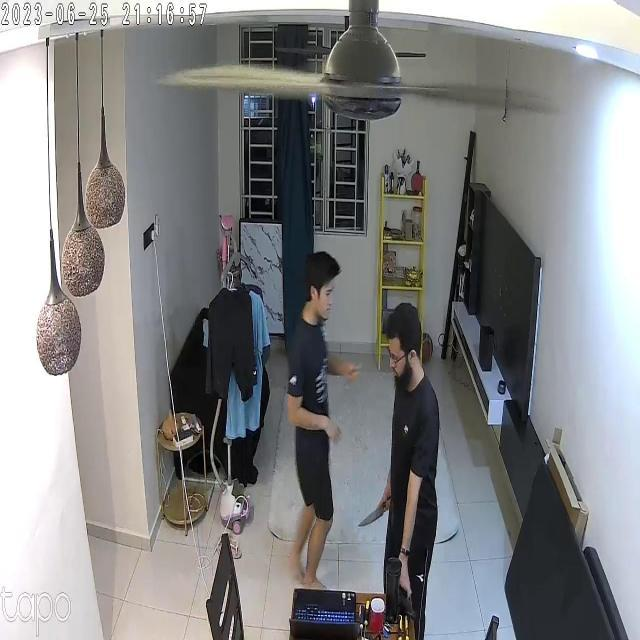Knife: (360, 495, 389, 533)
